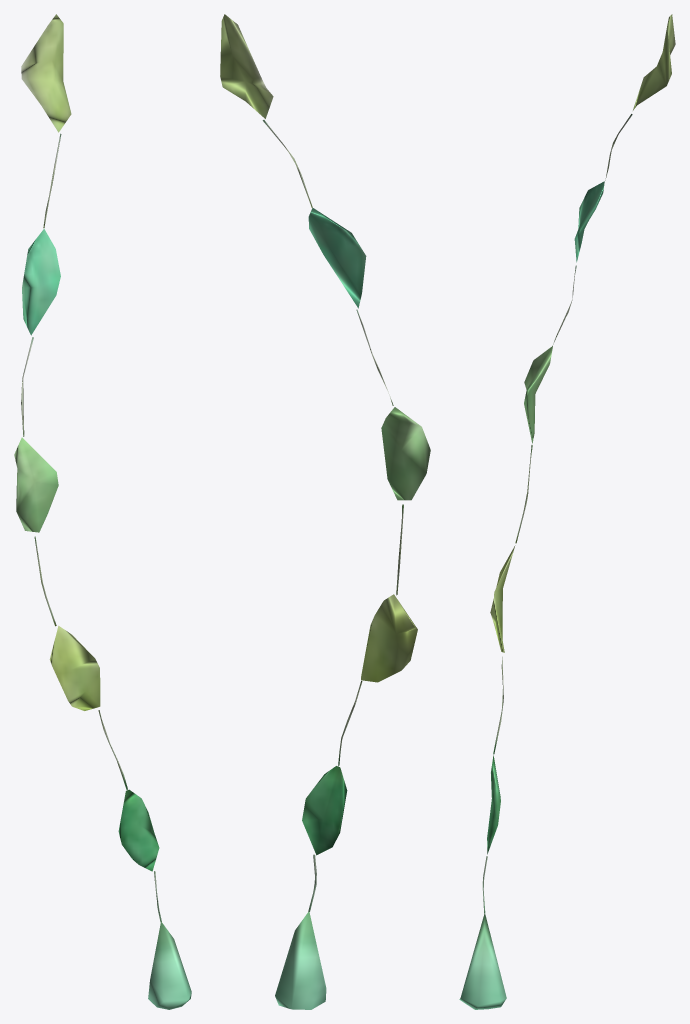
The model's file is kelp_b.glb.
The picture shows the model from 3 angles, left to right: view 1: azimuth 30°, elevation 25°; view 2: azimuth 150°, elevation 25°; view 3: azimuth 270°, elevation 25°; orthographic projection. The views are drawn at different scales.
Visible parts, largest first — view 1: kelp_b; view 2: kelp_b; view 3: kelp_b.
Boxes of the visible parts, x1,y1,x2,y2 form: kelp_b: [14, 14, 191, 1009]; kelp_b: [220, 14, 430, 1009]; kelp_b: [459, 14, 675, 1009].
Size of the model in its own units: 0.1397 by 0.8196 by 0.1639.
1 material, 1 textured.
